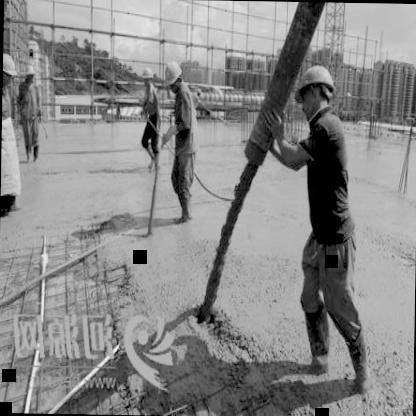helmet: (292, 61, 340, 121), (161, 57, 182, 97), (2, 52, 18, 92), (141, 66, 154, 90)
